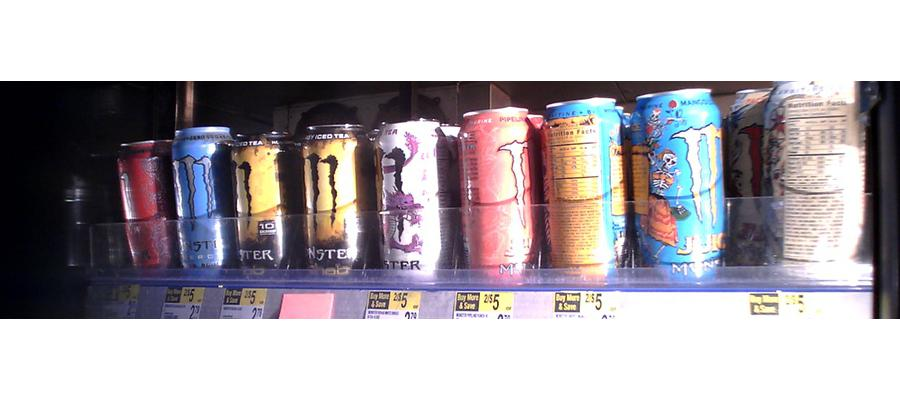bottle: (636, 85, 728, 279), (778, 79, 858, 281), (541, 94, 626, 273), (459, 103, 537, 274), (371, 120, 448, 277), (297, 113, 367, 274), (731, 79, 788, 276), (173, 129, 235, 276), (236, 132, 293, 273), (115, 136, 173, 272)
